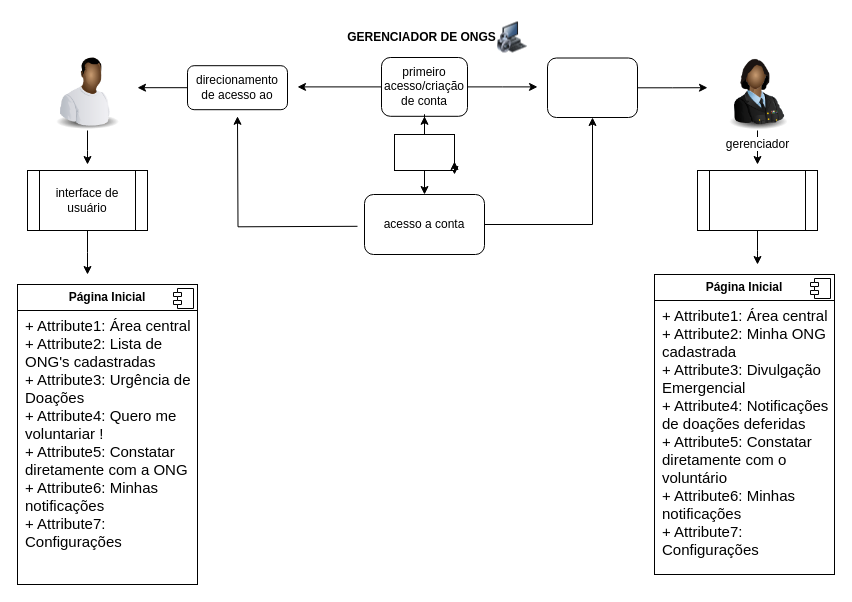
The diagram is 852 pixels wide and 602 high, and some of its shapes have lost their labels. The centre of each missing label's shape, as x and y in pixels:
"direcionamento de acesso ao :" goes at (592,87).
"interface de gerenciador" goes at (757,200).
"usuário" goes at (87,90).
"verificação de conta" goes at (424,152).
